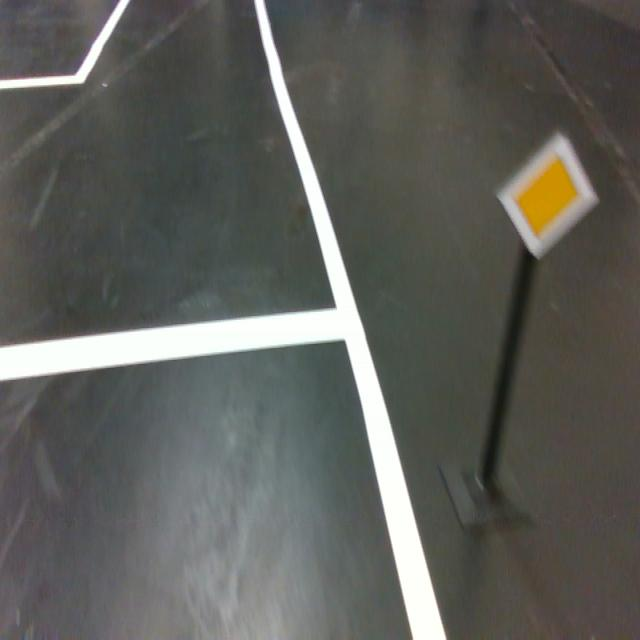priority-sign: (496, 129, 601, 260)
